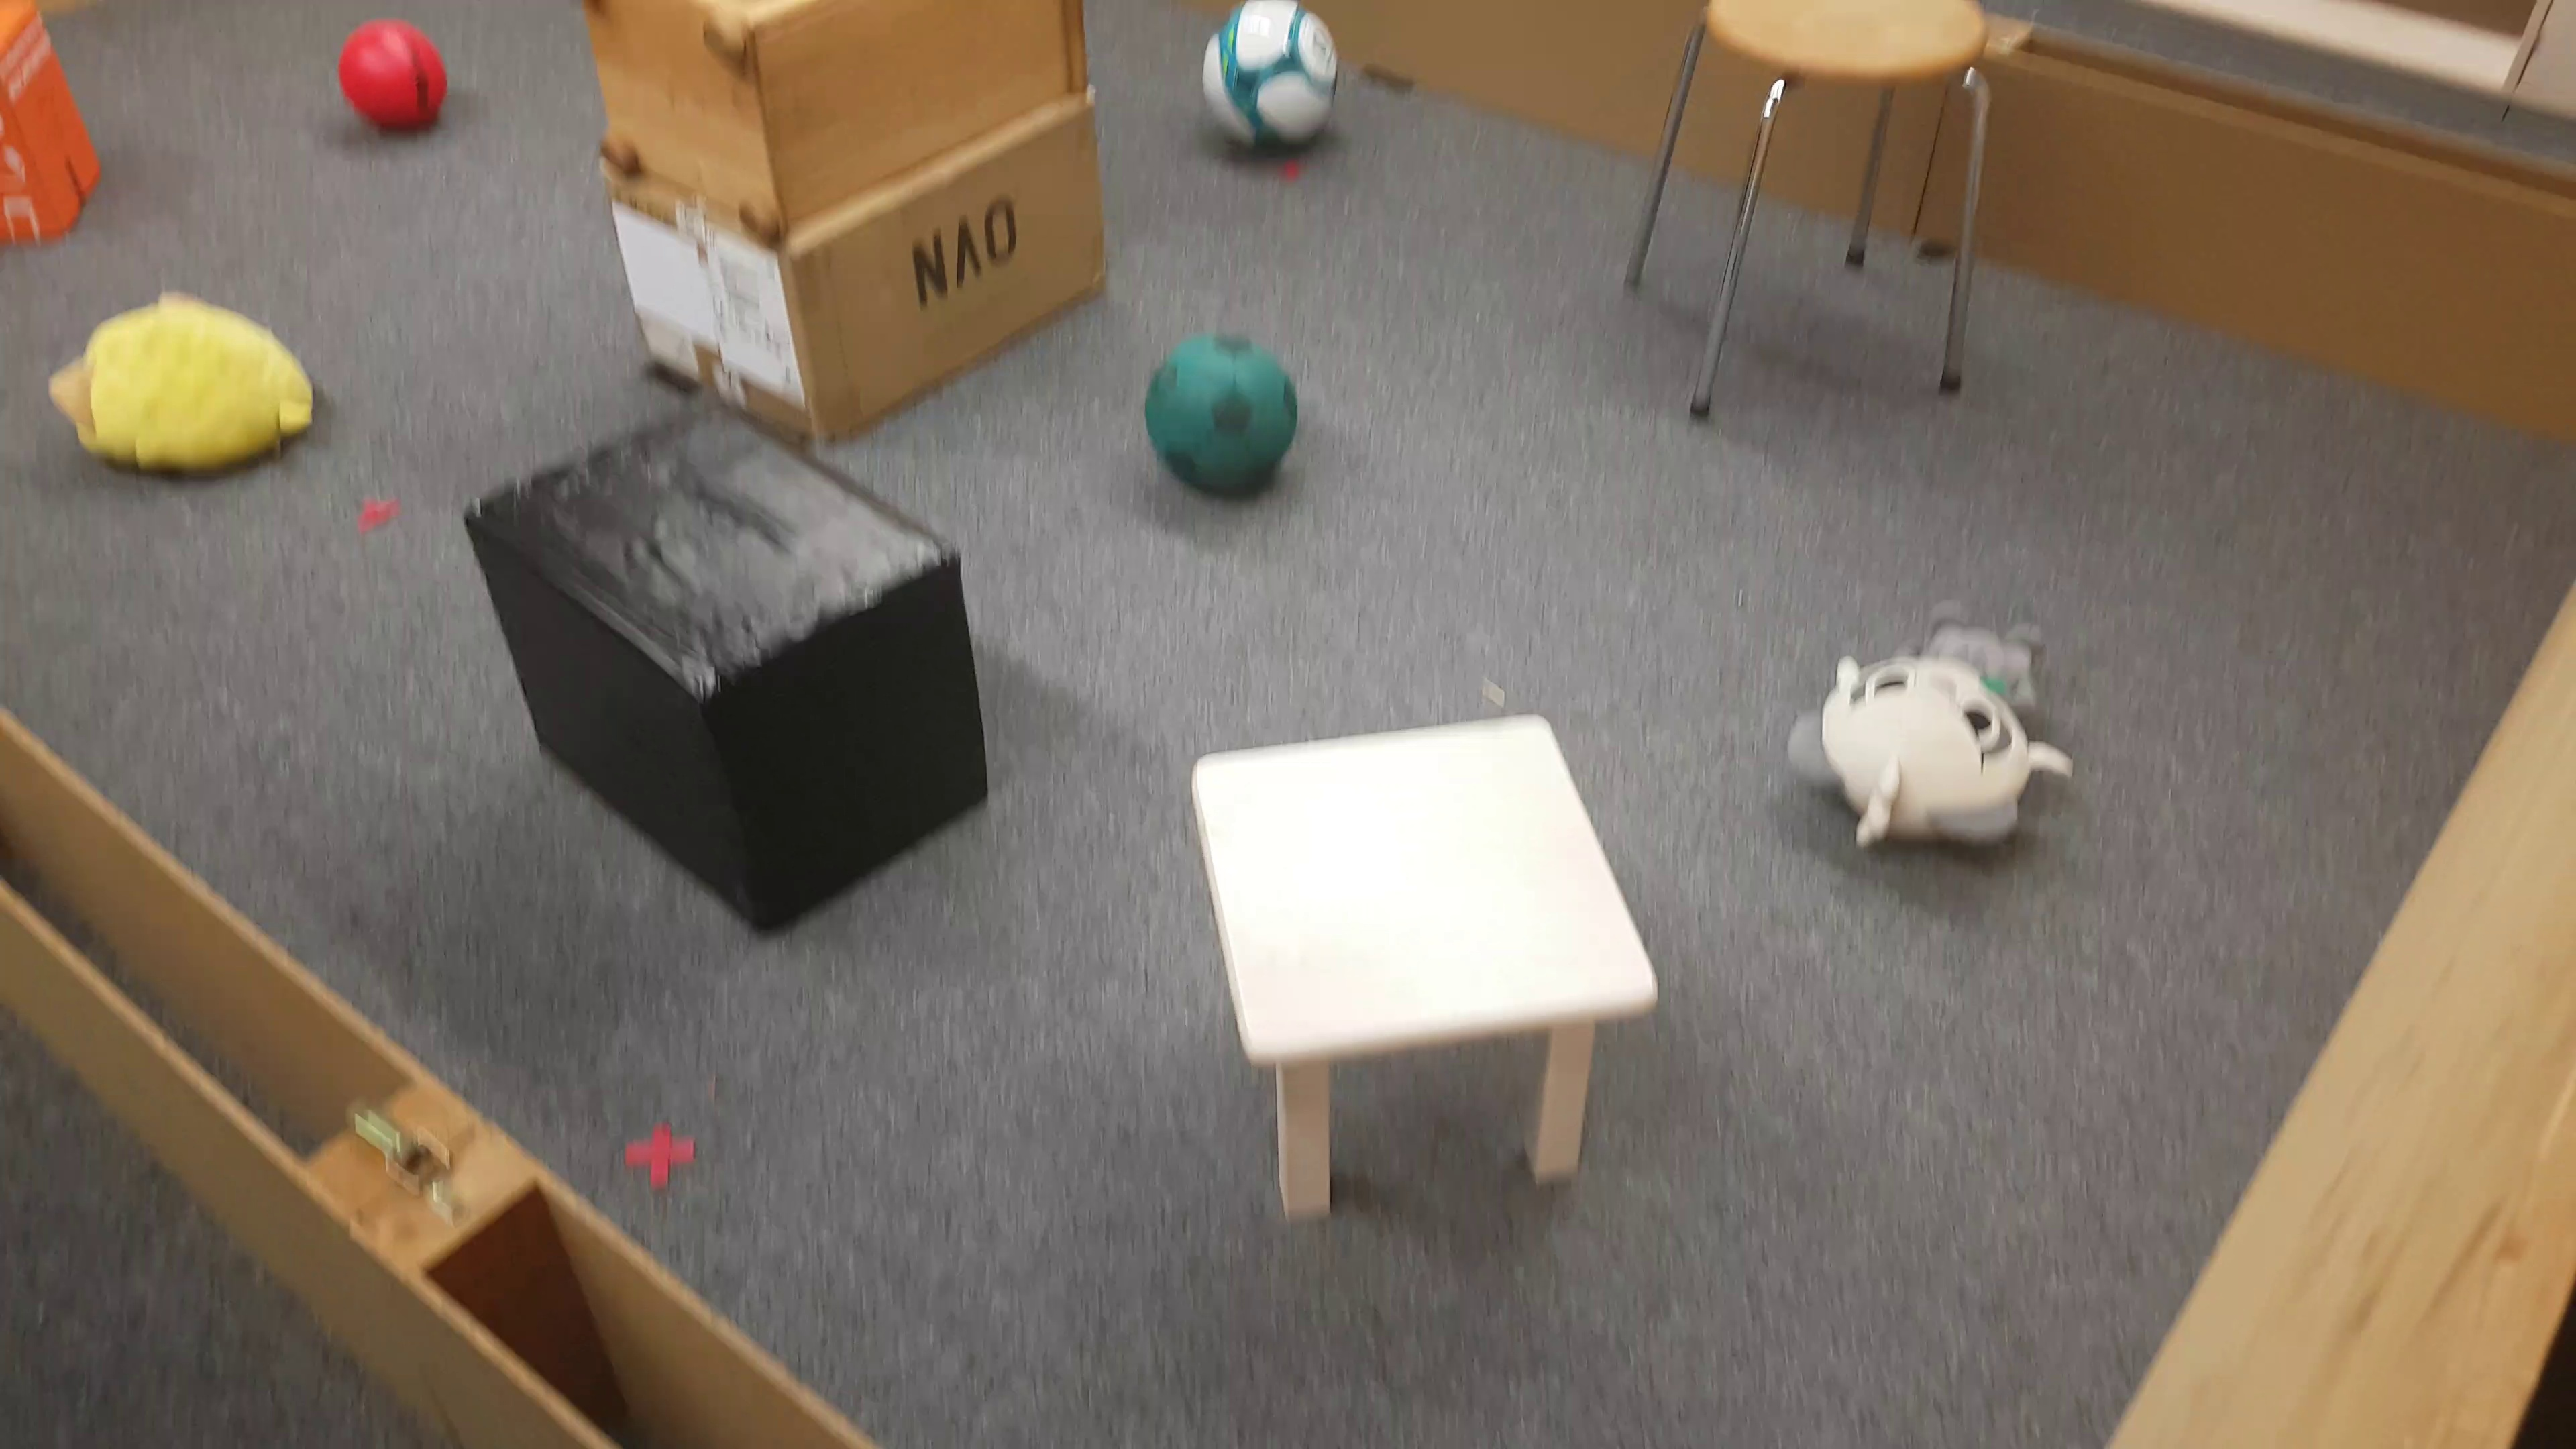grasp: (1789, 596, 2082, 885), (46, 292, 318, 474)
kick: (1150, 333, 1313, 501), (1201, 11, 1346, 161), (334, 18, 451, 138)
push: (460, 400, 998, 931), (0, 11, 111, 255)
